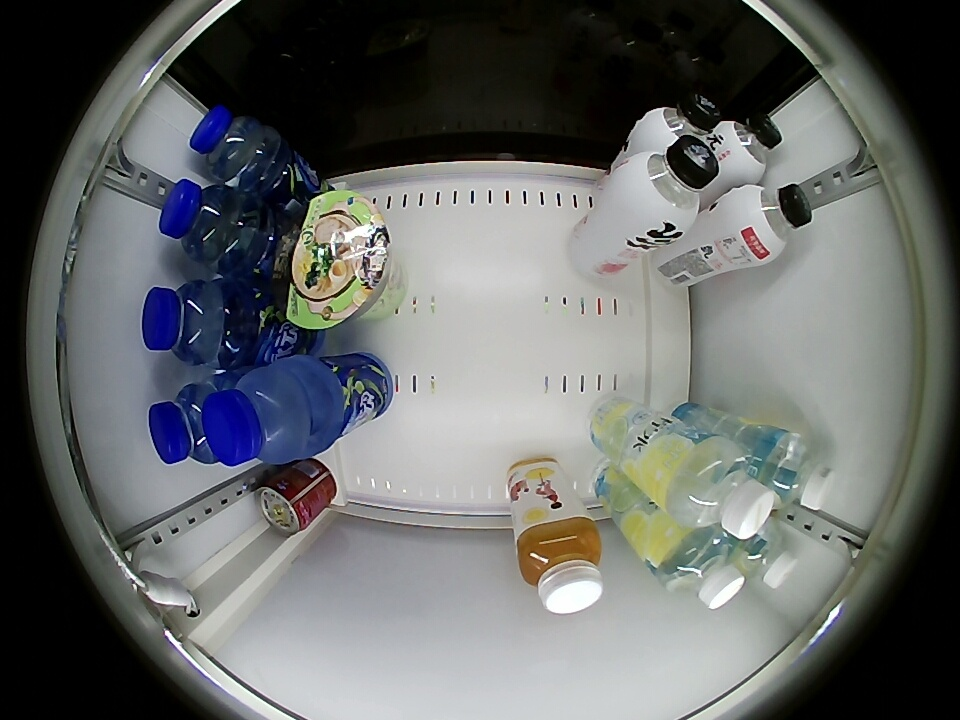chapai: (516, 516, 604, 614)
maidong: (203, 360, 322, 467), (158, 179, 256, 268), (142, 280, 232, 366), (148, 380, 232, 466), (188, 105, 276, 185)
qinningshui: (667, 434, 775, 541), (656, 529, 746, 609), (759, 431, 836, 510), (735, 526, 797, 589)
tangdaren: (270, 188, 392, 330)
wangzainiunai: (255, 466, 321, 535)
yuanqishui: (612, 134, 720, 237), (728, 182, 813, 261), (630, 89, 719, 154), (713, 111, 784, 183)
